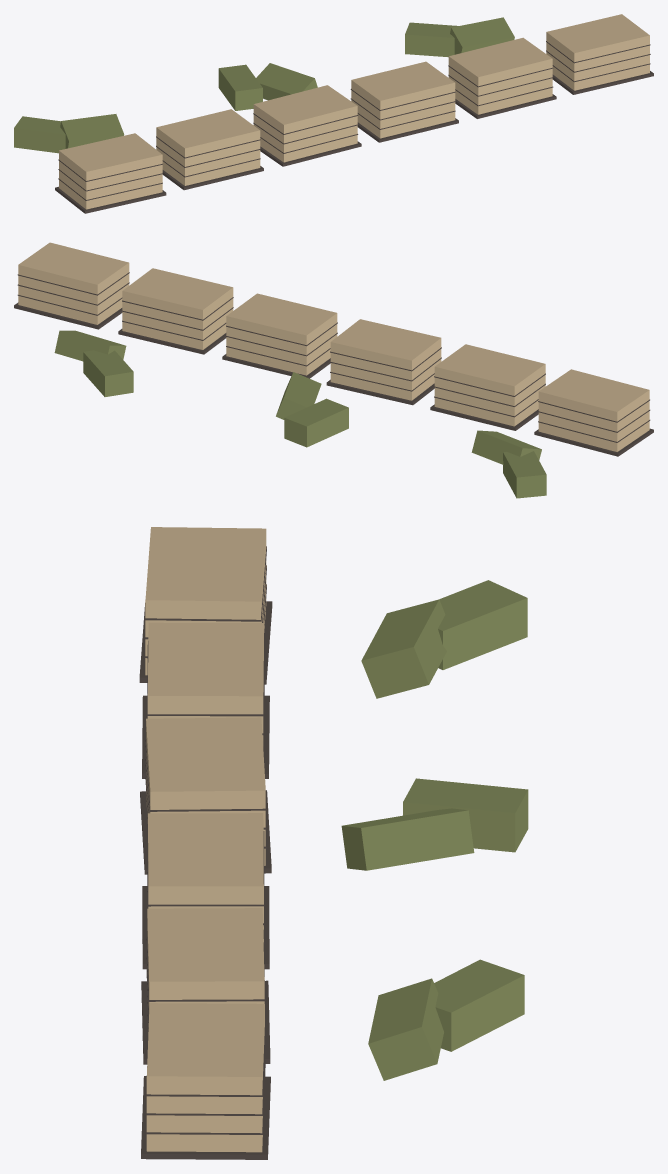
File: SM_AcopioMunicion_v2_Vacio_LOD0.fbx
3 views of the same model, one above another, from view 1: azimuth 30°, elevation 25°; view 2: azimuth 150°, elevation 25°; view 3: azimuth 270°, elevation 25° (orthographic). The views are drawn at different scales.
Visible parts, largest first — view 1: SM_acopio_carga_v2_LOD0; view 2: SM_acopio_carga_v2_LOD0; view 3: SM_acopio_carga_v2_LOD0.
Part boxes in pixels (box(x1,y1,x2,y2)): SM_acopio_carga_v2_LOD0: box(14, 14, 653, 213); SM_acopio_carga_v2_LOD0: box(14, 242, 653, 498); SM_acopio_carga_v2_LOD0: box(139, 527, 528, 1159).
Bounding box in the file's own units: 9.1 × 0.6273 × 2.7.
